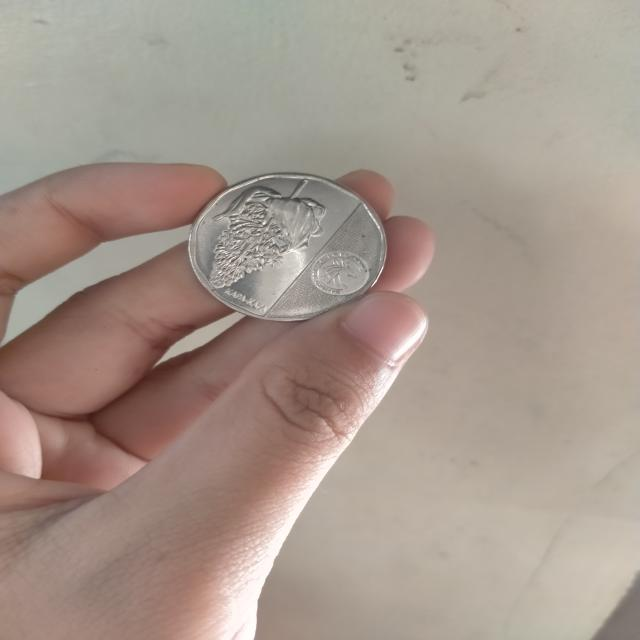10_New_Back: (199, 172, 320, 294)
